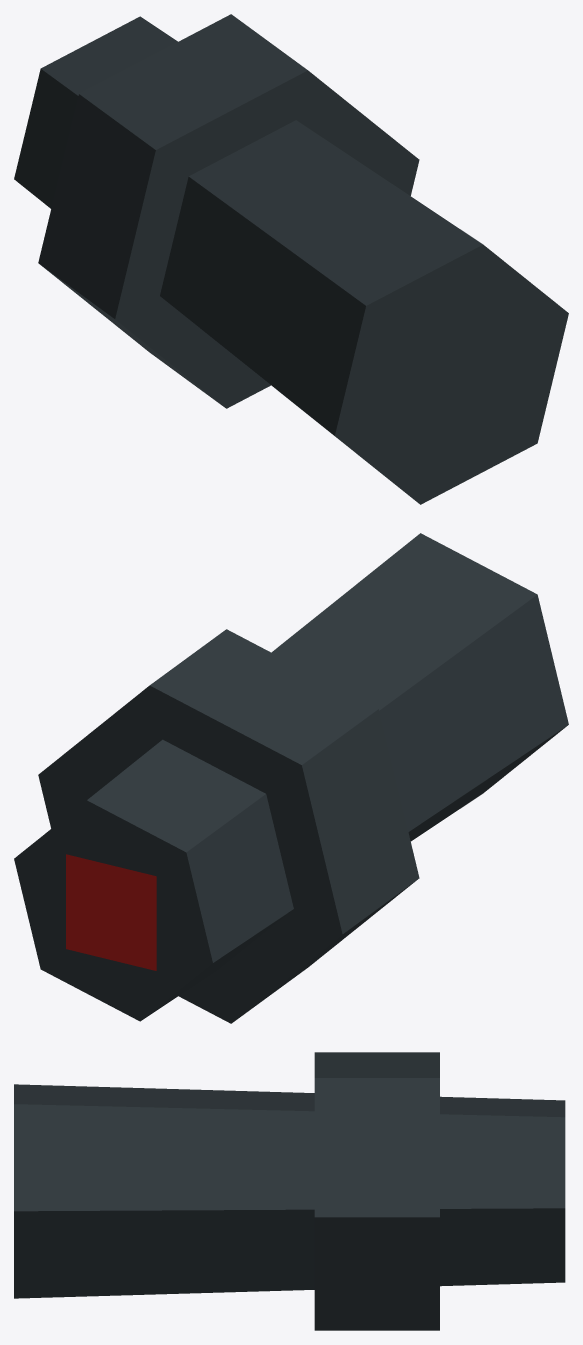
The picture shows the model from 3 angles, top to bottom: view 1: azimuth 30°, elevation 25°; view 2: azimuth 150°, elevation 25°; view 3: azimuth 270°, elevation 25°; orthographic projection. The views are drawn at different scales.
Parts seen in each view (by area): view 1: mount; view 2: mount; view 3: mount.
Boxes of the visible parts, x1,y1,x2,y2 form: mount: (14, 14, 568, 504); mount: (14, 533, 568, 1023); mount: (14, 1052, 565, 1330).
Size of the model in its own units: 2.29 by 2.29 by 4.43.
